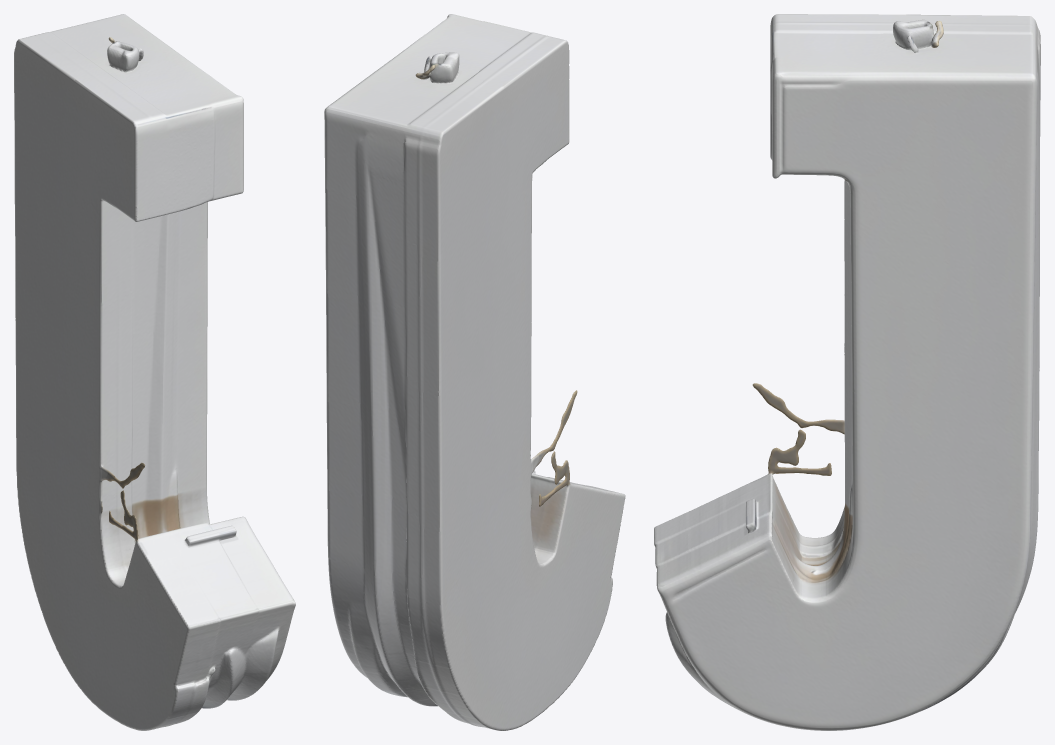
The model's file is lettera j 3d modello.glb.
3 renders of one model, left to right at view 1: azimuth 30°, elevation 25°; view 2: azimuth 150°, elevation 25°; view 3: azimuth 270°, elevation 25°, orthographic. The views are drawn at different scales.
Visible parts, largest first — view 1: tripo_node_2f06cc77-5b94-40ab-a314-89da8f5b2c00; view 2: tripo_node_2f06cc77-5b94-40ab-a314-89da8f5b2c00; view 3: tripo_node_2f06cc77-5b94-40ab-a314-89da8f5b2c00.
Boxes of the visible parts, x1,y1,x2,y2 form: tripo_node_2f06cc77-5b94-40ab-a314-89da8f5b2c00: (14, 14, 295, 730); tripo_node_2f06cc77-5b94-40ab-a314-89da8f5b2c00: (324, 14, 625, 730); tripo_node_2f06cc77-5b94-40ab-a314-89da8f5b2c00: (654, 14, 1040, 730).
Bounding box in the file's own units: 0.1845 × 1 × 0.5037.
1 material, 1 textured.
